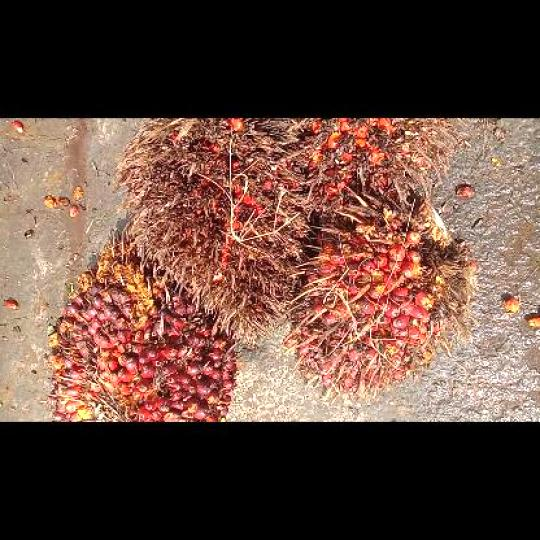masak: (283, 186, 478, 404), (49, 228, 237, 421)
terlalu masak: (114, 118, 314, 348), (301, 118, 460, 244)
